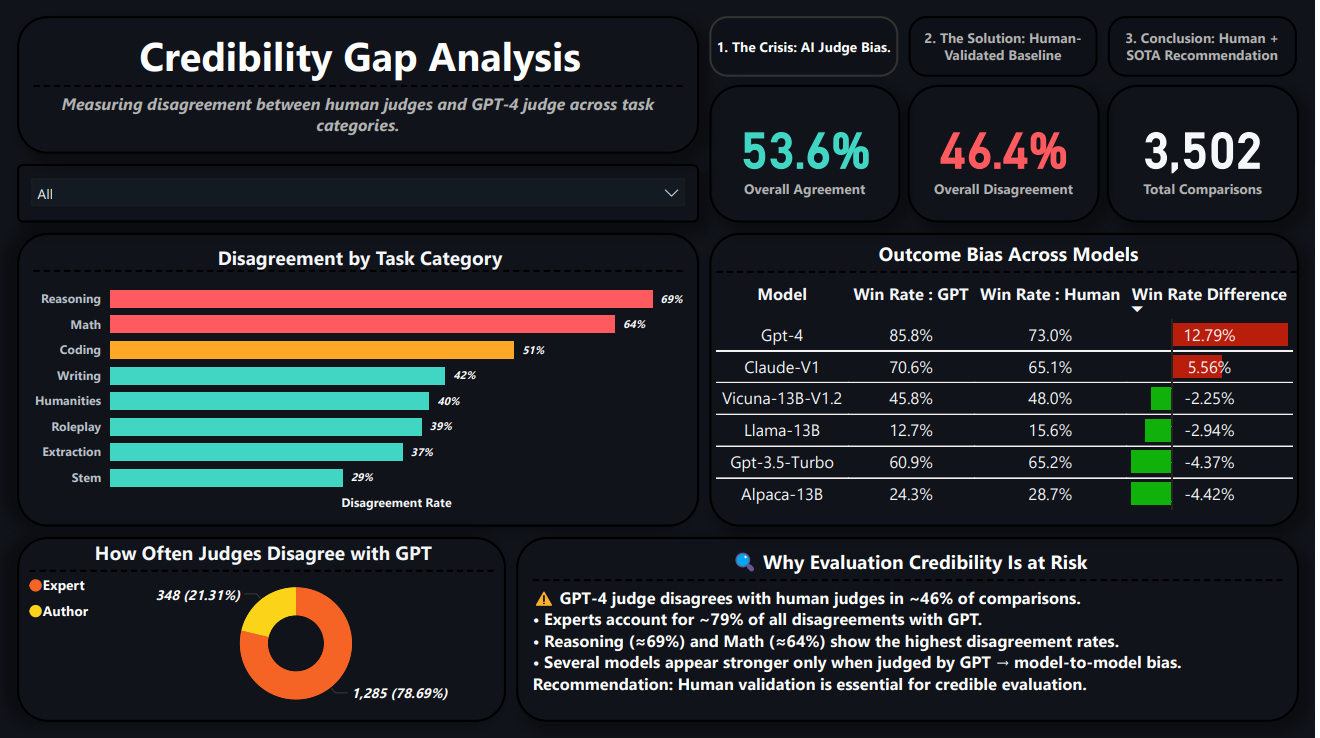

The page's visual inventory and layout, read from the dashboard file:
{"tool":"powerbi","page":{"name":"1. The Crisis: AI Judge Bias.","canvas":[1280,720],"ordinal":0},"visuals":[{"type":"barChart","title":"Disagreement by Task Category","fields":{"Category":["agreement_rates_for_powerbi.category"],"Y":["Avg(agreement_rates_for_powerbi.disagreement_rate)"]},"box":[16,227,663.8,285.9],"z":0},{"type":"pivotTable","title":"Outcome Bias Across Models","fields":{"Rows":["bias_metrics_for_powerbi.model"],"Values":["Avg(bias_metrics_for_powerbi.win_rate_g)","Avg(bias_metrics_for_powerbi.win_rate_h)","Avg(bias_metrics_for_powerbi.bias_score)"]},"box":[689.6,227,574.2,285.9],"z":1000},{"type":"textbox","title":"🔍 Why Evaluation Credibility Is at Risk","box":[501.8,522.7,762,180.4],"z":2000},{"type":"card","fields":{"Values":["Avg(agreement_rates_for_powerbi.agreement_rate)"]},"box":[689.6,83.4,186.5,133.7],"z":3000},{"type":"card","fields":{"Values":["Avg(agreement_rates_for_powerbi.disagreement_rate)"]},"box":[883.4,83.4,186.5,133.7],"z":4000},{"type":"card","fields":{"Values":["CountNonNull(human_gpt_comparison.question_id)"]},"box":[1077.3,83.4,186.5,133.7],"z":5000},{"type":"slicer","title":"Category","fields":{"Values":["agreement_rates_for_powerbi.category"]},"box":[16,159.5,663.8,57.7],"z":6000},{"type":"textbox","title":"Credibility Gap Analysis","box":[16,16,663.8,133.7],"z":7000},{"type":"donutChart","title":"How Often Judges Disagree with GPT","fields":{"Y":["CountNonNull(disagreement_examples.agree)"],"Category":["disagreement_examples.judge_x (groups)"]},"box":[16,522.7,476.1,180.4],"z":8000},{"type":"pageNavigator","box":[689.6,16,574.2,58.9],"z":9000}]}

Visuals, with their boxes in screenshot pixels (x1, y1, x2, y2), scaled from the page's 1280x720 canvas onto the 1320x738 screenshot:
"Disagreement by Task Category" barChart: Rect(16, 233, 701, 526)
"Outcome Bias Across Models" pivotTable: Rect(711, 233, 1303, 526)
"🔍 Why Evaluation Credibility Is at Risk" textbox: Rect(517, 536, 1303, 721)
card - Avg(agreement_rates_for_powerbi.agreement_rate): Rect(711, 85, 903, 223)
card - Avg(agreement_rates_for_powerbi.disagreement_rate): Rect(911, 85, 1103, 223)
card - CountNonNull(human_gpt_comparison.question_id): Rect(1111, 85, 1303, 223)
"Category" slicer: Rect(16, 163, 701, 223)
"Credibility Gap Analysis" textbox: Rect(16, 16, 701, 153)
"How Often Judges Disagree with GPT" donutChart: Rect(16, 536, 507, 721)
pageNavigator: Rect(711, 16, 1303, 77)
